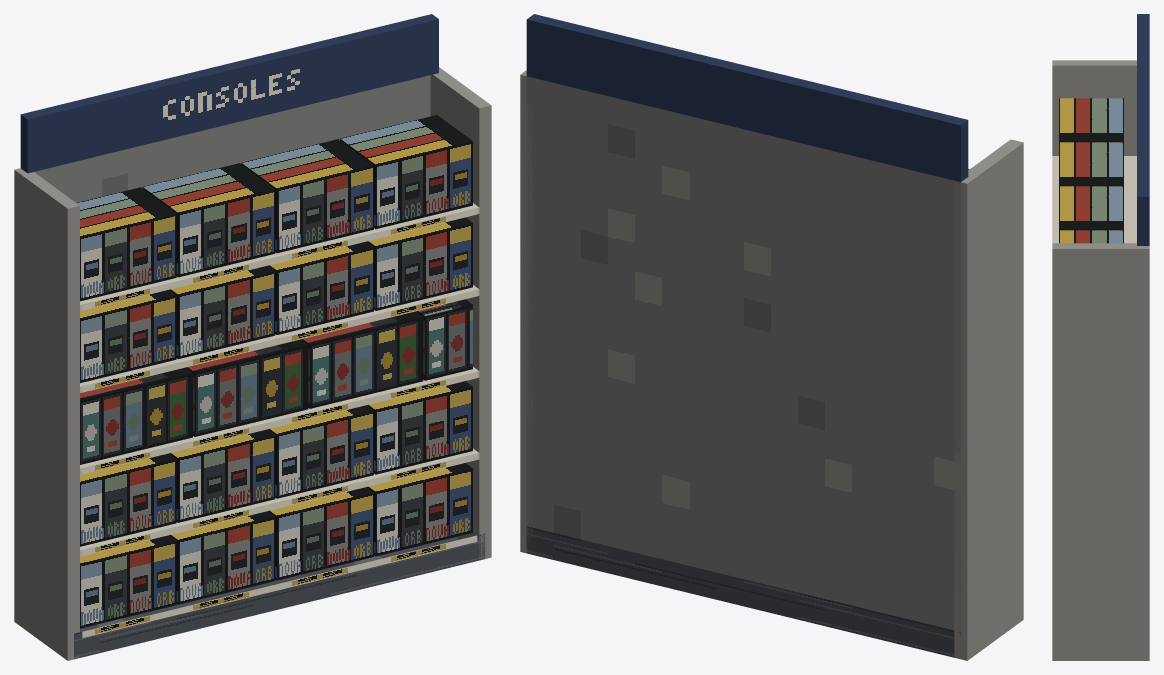
The model's file is COM_ConsoleWallShelf.glb.
3 renders of one model, left to right at view 1: azimuth 30°, elevation 25°; view 2: azimuth 150°, elevation 25°; view 3: azimuth 270°, elevation 25°, orthographic. The views are drawn at different scales.
Parts seen in each view (by area): view 1: COM_ConsoleWallShelf_Mesh; view 2: COM_ConsoleWallShelf_Mesh; view 3: COM_ConsoleWallShelf_Mesh.
Part boxes in pixels (x1,y1,x2,y2): COM_ConsoleWallShelf_Mesh: (14,14,491,660); COM_ConsoleWallShelf_Mesh: (520,14,1023,660); COM_ConsoleWallShelf_Mesh: (1052,14,1149,660).
Size of what is drawn, in the model's own units: 2.06 by 2.35 by 0.451.
1 material, 1 textured.
